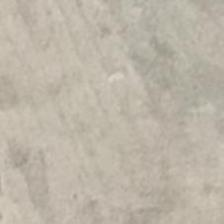Non_Crack: (10, 32, 188, 189)
